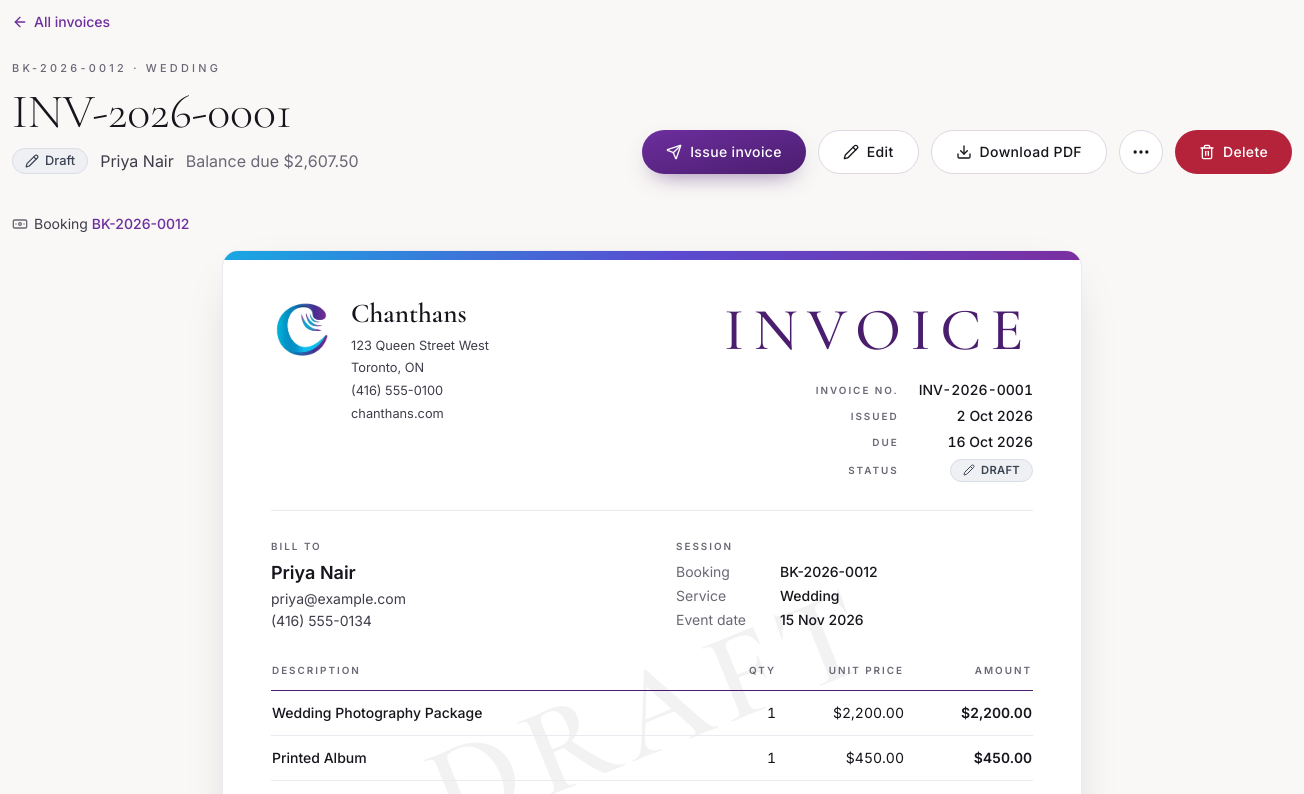
Test: InvoiceDetailPage › draft: can issue, edit and delete; cannot take payment or be marked paid
Expected: the button "Issue invoice" is shown, [642,130,806,174]
Expected: the link "Edit" is shown, [818,130,919,174]
Click the button named "More actions" at (1141, 152), box [1119,130,1163,174]
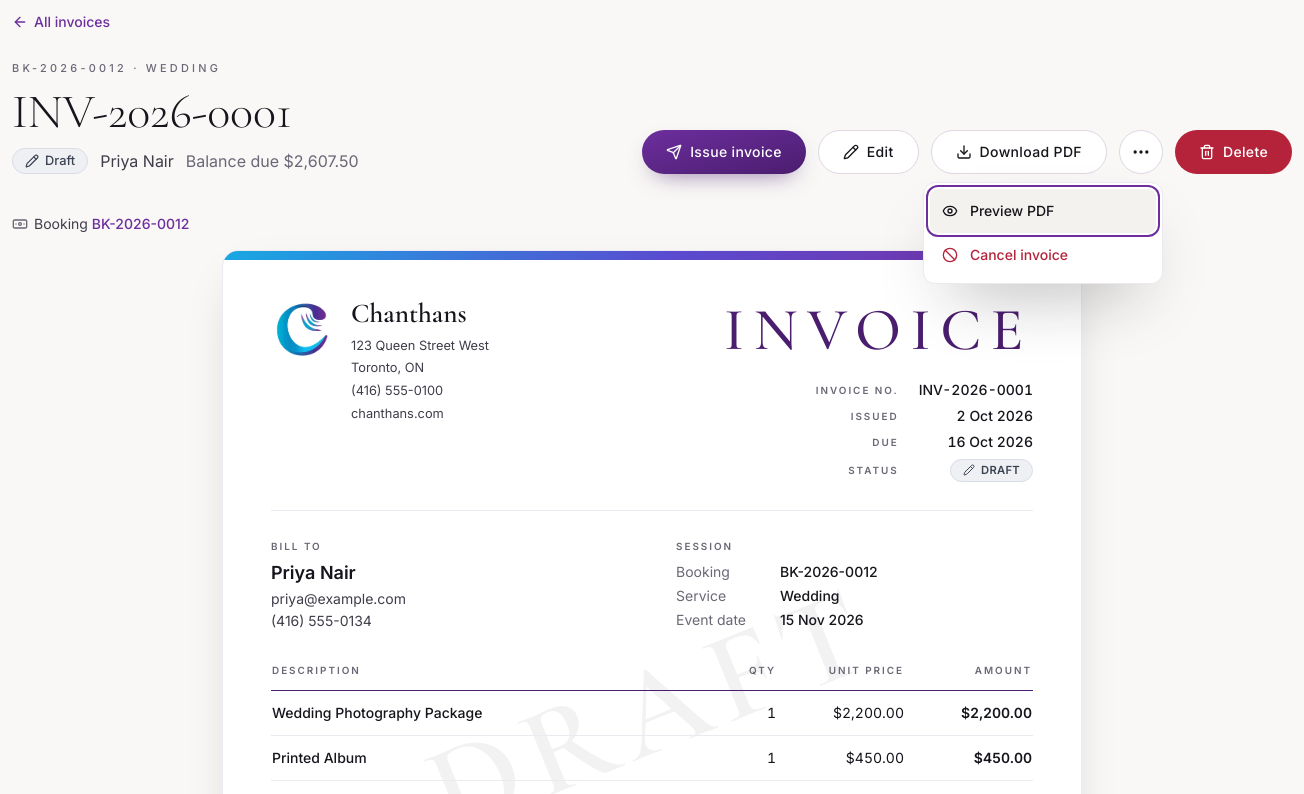
Expected: the button "Delete" is shown, [1175,130,1292,174]
Now the menu item "Cancel invoice" is shown, box [930,233,1156,277]
